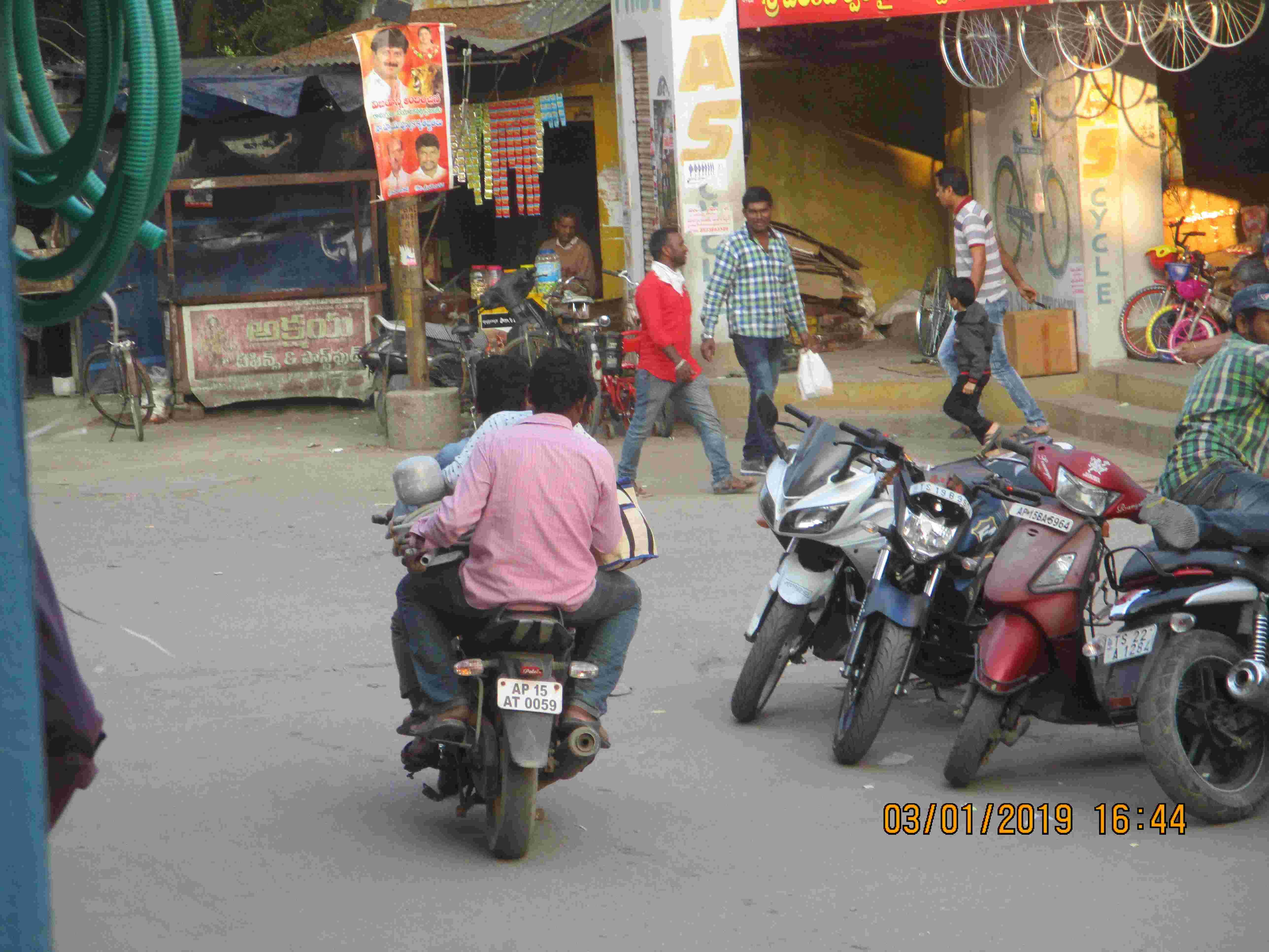plate: (491, 671, 572, 718), (1008, 497, 1079, 538)
